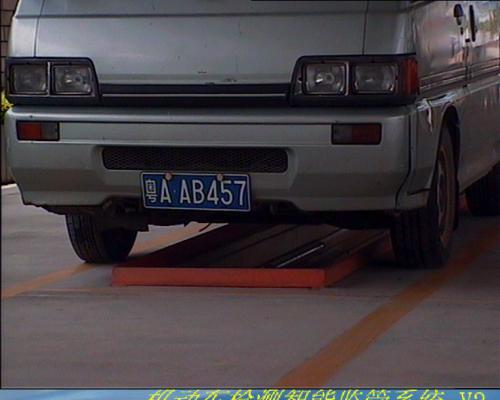Carplate: (136, 167, 256, 218)
